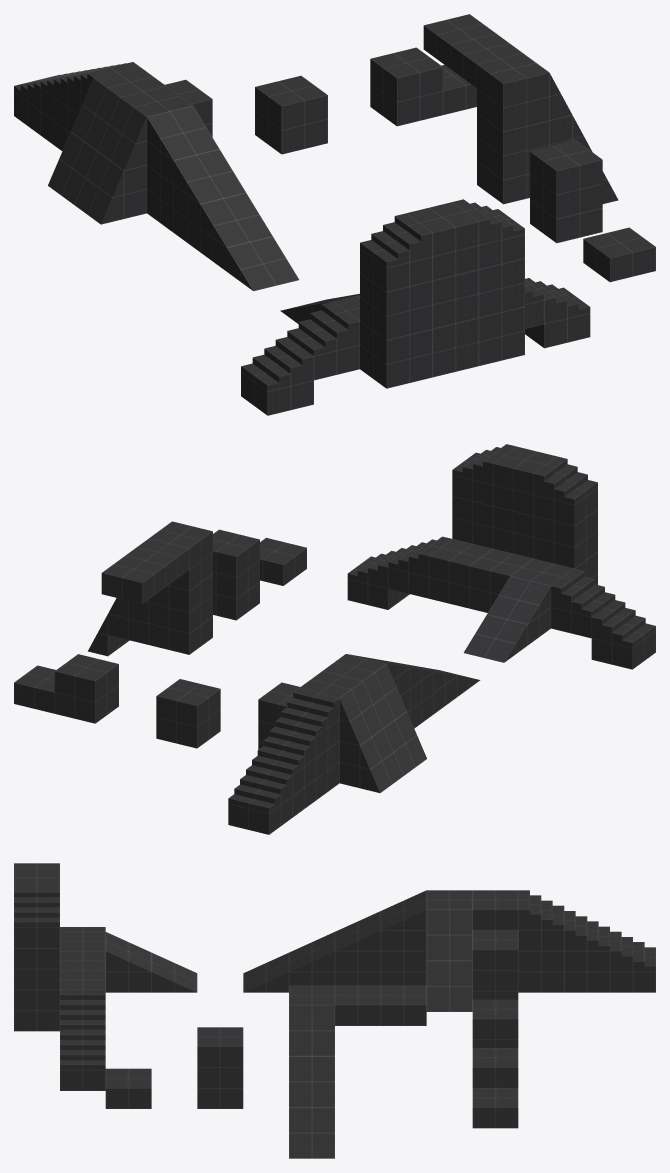
Rendered from level_1.glb.
3 renders of one model, top to bottom at view 1: azimuth 30°, elevation 25°; view 2: azimuth 150°, elevation 25°; view 3: azimuth 270°, elevation 25°, orthographic. The views are drawn at different scales.
Parts seen in each view (by area): view 1: Cube.001, Cube.018, Cube.054, Cube.056, Cube.042, Cube.044, Cube.043, Cube.036, Cube.039, Cube.040, Cube.055, Cube.053 (+34 smaller); view 2: Cube.018, Cube.001, Cube.048, Cube.044, Cube.042, Cube.043, Cube.054, Cube.039, Cube.010, Cube.040, Cube.045, Cube.046 (+29 smaller); view 3: Cube.054, Cube.041, Cube.017, Cube.045, Cube.048, Cube.046, Cube.032, Cube.033, Cube.059, Cube.060, Cube.061, Cube.001 (+31 smaller).
Part boxes in pixels (x1,y1,x2,y2): Cube.001: [255, 75, 327, 154]; Cube.018: [370, 47, 442, 126]; Cube.054: [530, 140, 602, 218]; Cube.056: [477, 53, 549, 131]; Cube.042: [360, 213, 432, 292]; Cube.044: [241, 337, 313, 415]; Cube.043: [287, 301, 359, 380]; Cube.036: [360, 321, 432, 388]; Cube.039: [360, 273, 432, 340]; Cube.040: [406, 202, 478, 280]; Cube.055: [477, 113, 549, 180]; Cube.053: [583, 227, 655, 282]; Cube.018: [54, 654, 118, 723]; Cube.001: [156, 679, 220, 748]; Cube.048: [228, 765, 292, 834]; Cube.044: [591, 600, 655, 669]; Cube.042: [534, 456, 597, 525]; Cube.043: [551, 569, 615, 638]; Cube.054: [213, 529, 259, 599]; Cube.039: [534, 509, 597, 568]; Cube.010: [429, 539, 492, 608]; Cube.040: [493, 446, 556, 515]; Cube.045: [275, 688, 339, 757]; Cube.046: [252, 727, 315, 795]; Cube.054: [197, 1027, 243, 1088]; Cube.041: [14, 887, 59, 948]; Cube.017: [60, 1030, 105, 1090]; Cube.045: [518, 890, 564, 950]; Cube.048: [610, 931, 655, 992]; Cube.046: [564, 911, 609, 971]; Cube.032: [426, 909, 472, 960]; Cube.033: [426, 960, 472, 1011]; Cube.059: [289, 1005, 334, 1056]; Cube.060: [289, 1056, 334, 1107]; Cube.061: [289, 1107, 334, 1158]; Cube.001: [472, 999, 518, 1047].
Size of what is drawn, in the model's own units: 21 by 7 by 28.
1 material, 1 textured.
